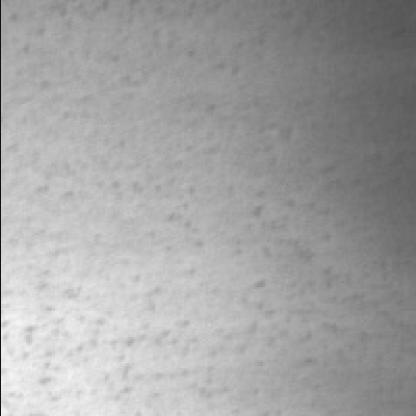pitted_surface: (20, 286, 366, 400), (218, 26, 336, 304), (42, 146, 202, 272), (8, 9, 240, 88)
